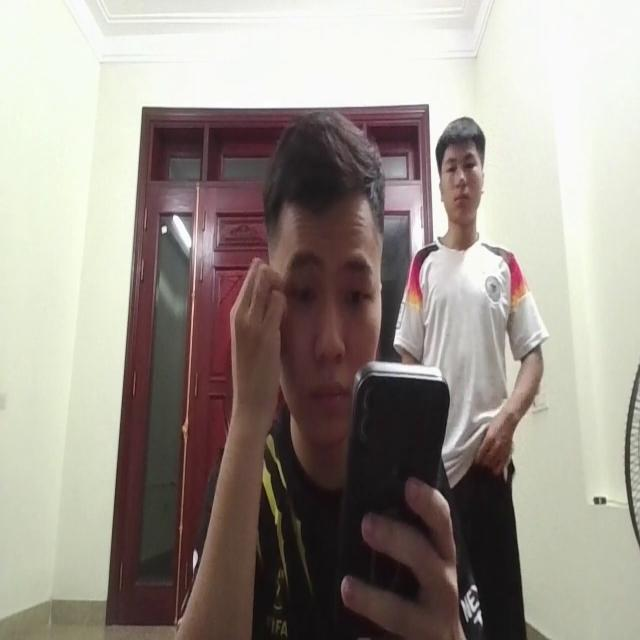extra_person: (404, 96, 534, 570)
phone: (335, 331, 448, 629)
student: (171, 104, 441, 640)
